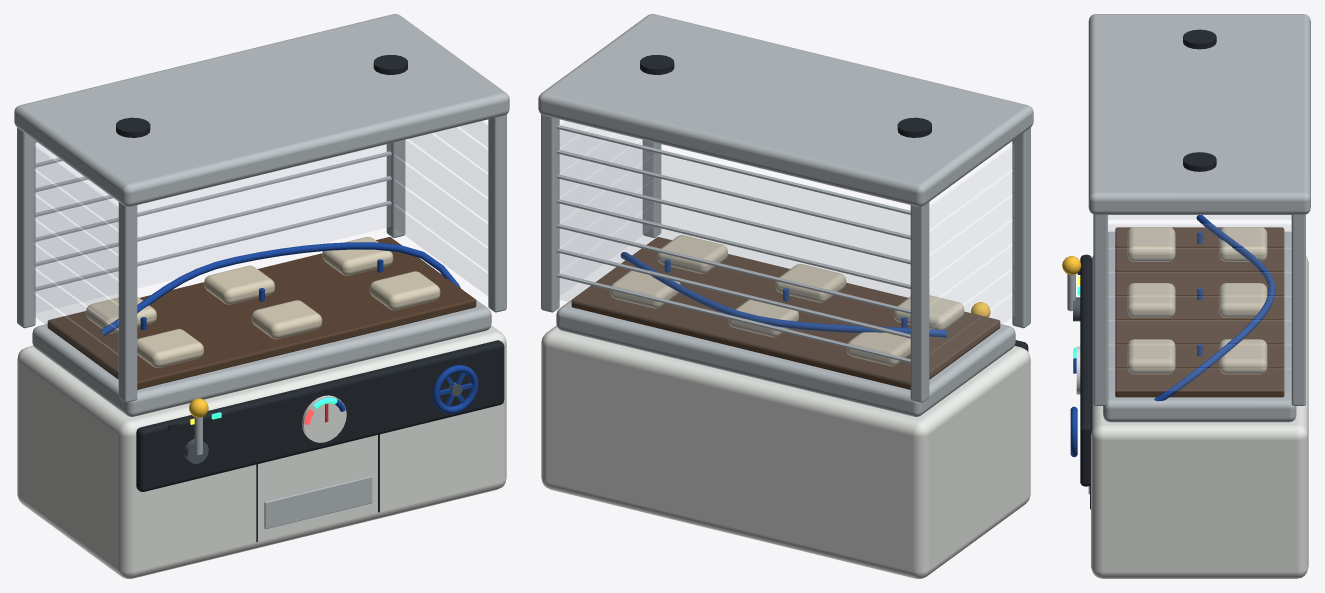
The model's file is grow-bed.glb.
3 views of the same model, side by side, from view 1: azimuth 30°, elevation 25°; view 2: azimuth 150°, elevation 25°; view 3: azimuth 270°, elevation 25° (orthographic). The views are drawn at different scales.
Parts seen in each view (by area): view 1: grow-bed-hull-white, led_panel-panel-grey, grow-bed-bellows, grow-bed-dark-polymer, grow-bed-grow-media, grow-bed-aluminium, grow-bed-panel-grey, nameplate-panel-grey, grow-bed-nasa-blue, plant_6-plant-pillow, plant_5-plant-pillow, plant_4-plant-pillow (+6 smaller); view 2: grow-bed-hull-white, grow-bed-bellows, led_panel-panel-grey, grow-bed-aluminium, grow-bed-grow-media, grow-bed-panel-grey, grow-bed-nasa-blue, plant_6-plant-pillow, plant_5-plant-pillow, plant_1-plant-pillow, plant_3-plant-pillow, plant_4-plant-pillow (+2 smaller); view 3: led_panel-panel-grey, grow-bed-hull-white, grow-bed-bellows, grow-bed-grow-media, grow-bed-panel-grey, grow-bed-aluminium, grow-bed-dark-polymer, grow-bed-nasa-blue, plant_6-plant-pillow, plant_4-plant-pillow, plant_5-plant-pillow, plant_2-plant-pillow (+4 smaller).
Part boxes in pixels (bbox=[...]): grow-bed-hull-white: bbox=[17, 325, 506, 578]; led_panel-panel-grey: bbox=[14, 14, 509, 206]; grow-bed-bellows: bbox=[34, 121, 487, 376]; grow-bed-dark-polymer: bbox=[136, 340, 504, 541]; grow-bed-grow-media: bbox=[47, 237, 476, 389]; grow-bed-aluminium: bbox=[17, 114, 506, 402]; grow-bed-panel-grey: bbox=[32, 299, 491, 416]; nameplate-panel-grey: bbox=[264, 476, 372, 528]; grow-bed-nasa-blue: bbox=[99, 242, 460, 336]; plant_6-plant-pillow: bbox=[369, 271, 440, 310]; plant_5-plant-pillow: bbox=[251, 300, 322, 339]; plant_4-plant-pillow: bbox=[137, 329, 203, 367]; grow-bed-hull-white: bbox=[541, 325, 1030, 578]; grow-bed-bellows: bbox=[558, 121, 1013, 384]; led_panel-panel-grey: bbox=[538, 14, 1033, 206]; grow-bed-aluminium: bbox=[541, 114, 1030, 402]; grow-bed-grow-media: bbox=[571, 237, 1000, 389]; grow-bed-panel-grey: bbox=[556, 299, 1015, 416]; grow-bed-nasa-blue: bbox=[620, 252, 947, 337]; plant_6-plant-pillow: bbox=[657, 235, 727, 273]; plant_5-plant-pillow: bbox=[775, 264, 846, 302]; plant_1-plant-pillow: bbox=[846, 332, 910, 366]; plant_3-plant-pillow: bbox=[610, 270, 680, 308]; plant_4-plant-pillow: bbox=[893, 295, 964, 330]; led_panel-panel-grey: bbox=[1088, 14, 1310, 214]; grow-bed-hull-white: bbox=[1091, 255, 1308, 578]; grow-bed-bellows: bbox=[1108, 215, 1290, 390]; grow-bed-grow-media: bbox=[1115, 227, 1284, 397]; grow-bed-panel-grey: bbox=[1103, 231, 1296, 422]; grow-bed-aluminium: bbox=[1093, 214, 1305, 405]; grow-bed-dark-polymer: bbox=[1077, 254, 1092, 509]; grow-bed-nasa-blue: bbox=[1154, 215, 1275, 401]; plant_6-plant-pillow: bbox=[1127, 339, 1175, 374]; plant_4-plant-pillow: bbox=[1127, 227, 1175, 261]; plant_5-plant-pillow: bbox=[1127, 283, 1175, 317]; plant_2-plant-pillow: bbox=[1219, 283, 1267, 317].
Bounding box in the file's own units: 1.8 × 1.79 × 1.03.
